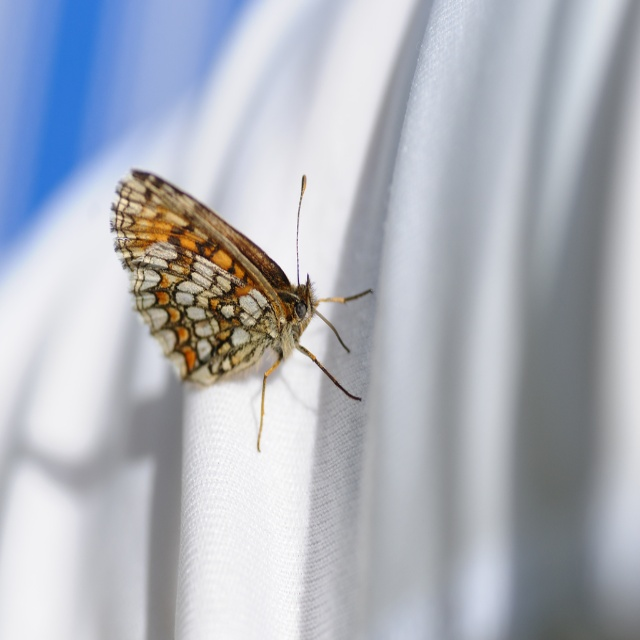Butterfly: (108, 162, 367, 438)
